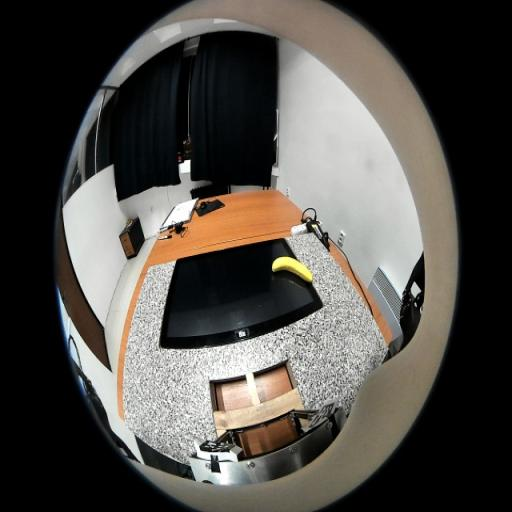Banana: (272, 256, 312, 282)
